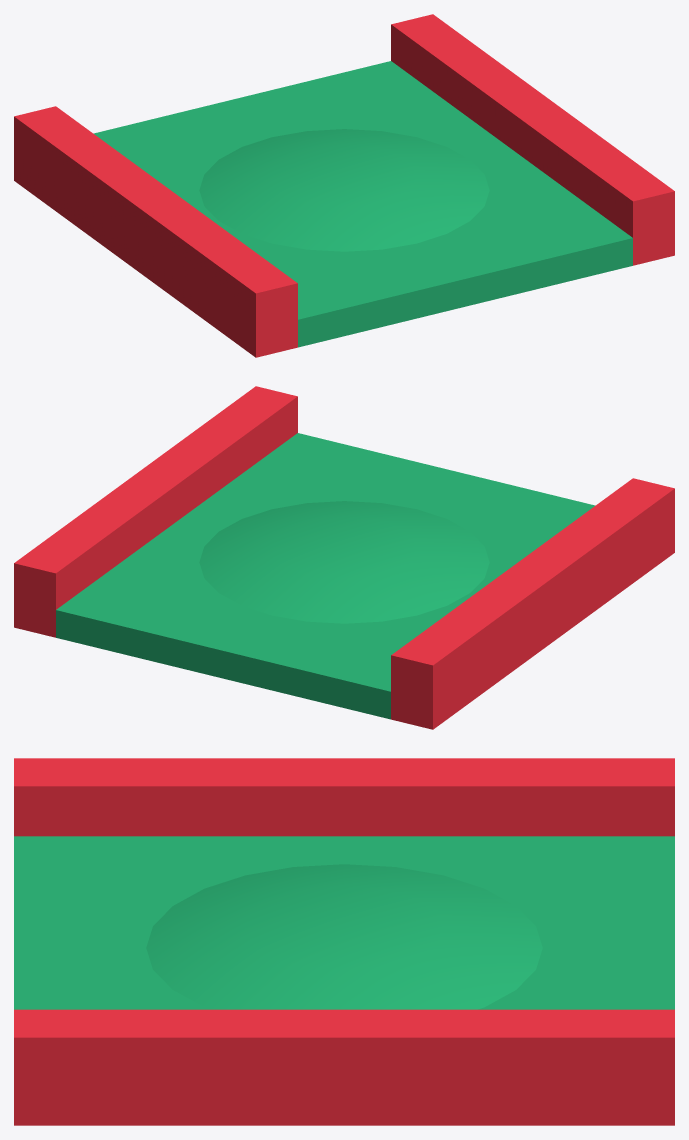
The model's file is bumpWalls.fbx.
3 views of the same model, one above another, from view 1: azimuth 30°, elevation 25°; view 2: azimuth 150°, elevation 25°; view 3: azimuth 270°, elevation 25° (orthographic). The views are drawn at different scales.
Parts seen in each view (by area): view 1: bumpWalls; view 2: bumpWalls; view 3: bumpWalls.
Part boxes in pixels (x1=…): bumpWalls: x1=14, y1=14, x2=674, y2=357; bumpWalls: x1=14, y1=386, x2=674, y2=729; bumpWalls: x1=14, y1=758, x2=674, y2=1125.
Bounding box in the file's own units: 10 × 1.47 × 10.
